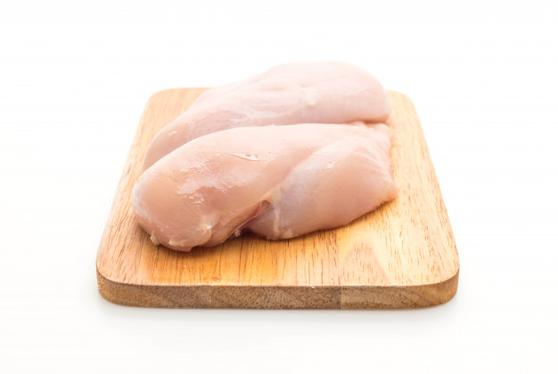chicken_fillet: (134, 118, 401, 252), (161, 61, 393, 138)
